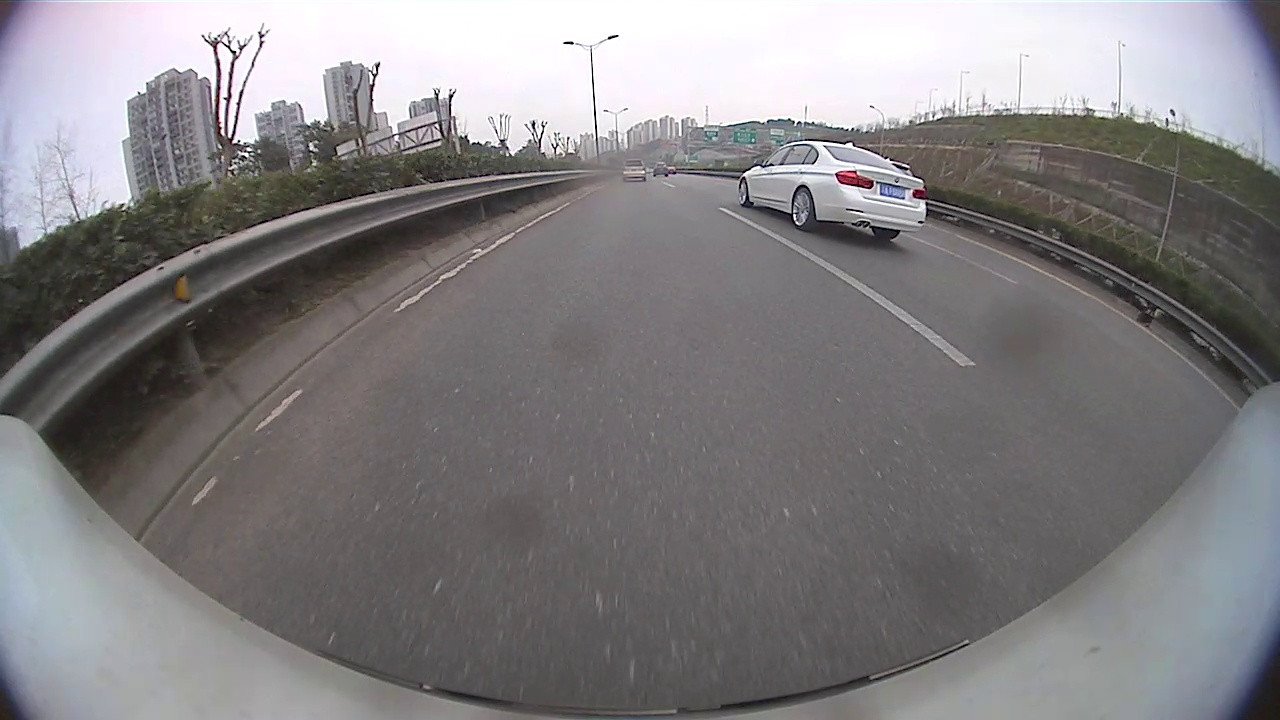car: (737, 137, 930, 240), (620, 157, 647, 181)
front: (736, 178, 752, 207)
rear: (789, 190, 816, 232)
